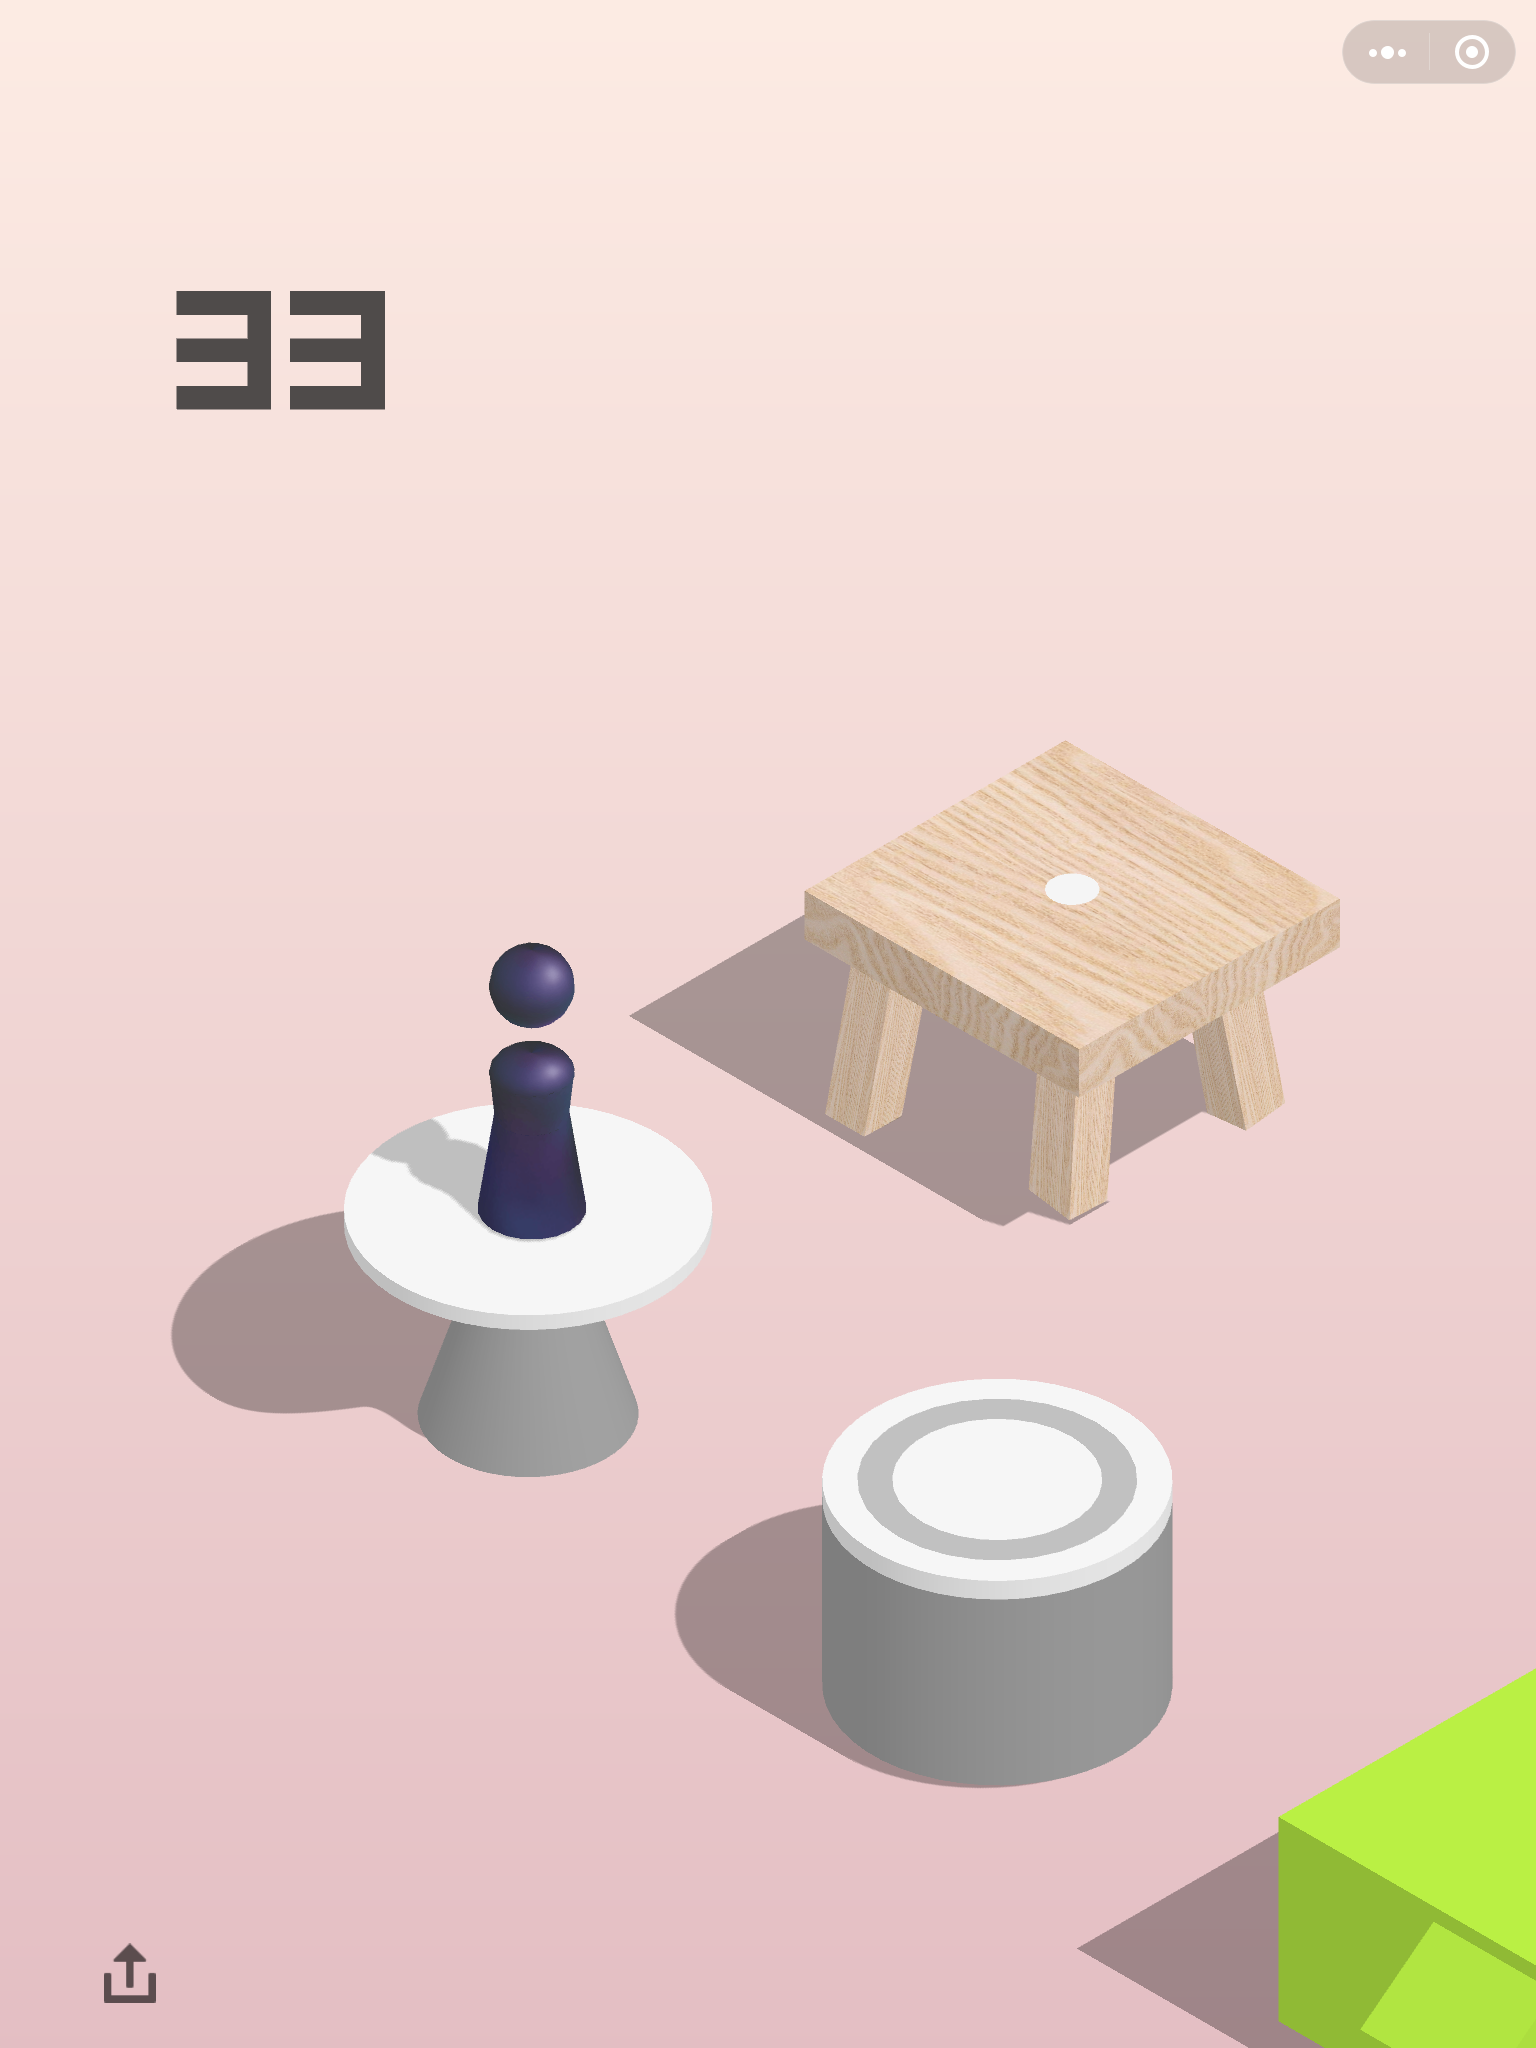c: (336, 1077, 718, 1496), (810, 1366, 1183, 1787)
f: (792, 734, 1346, 1229), (1276, 1663, 1533, 2048)
r: (471, 926, 595, 1243)
